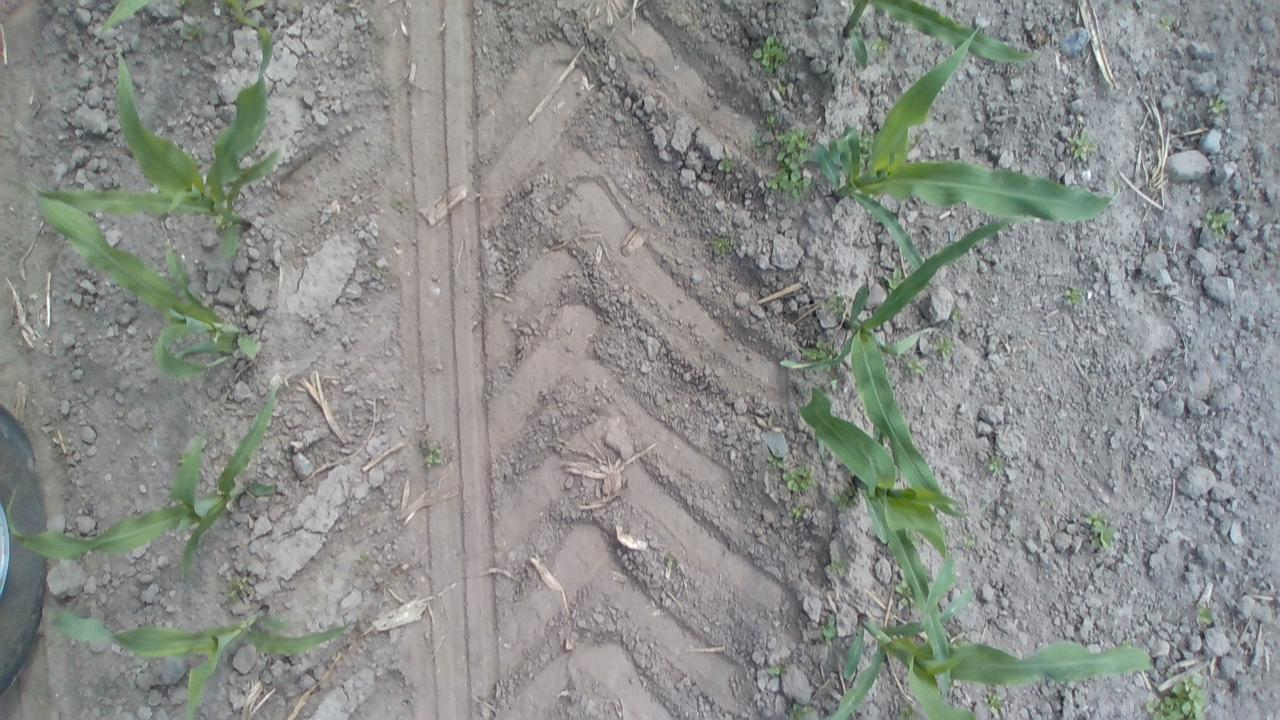Maize: (809, 26, 1116, 296), (783, 209, 1039, 522), (10, 27, 288, 258), (6, 382, 290, 591), (18, 182, 268, 388), (810, 591, 1165, 720), (26, 595, 366, 720), (848, 388, 956, 698), (833, 1, 1047, 67), (86, 1, 280, 34)
Weeds: (766, 125, 816, 208), (1140, 669, 1210, 720), (780, 338, 846, 389), (748, 32, 796, 77), (1081, 508, 1120, 555), (219, 569, 258, 607), (1201, 204, 1237, 245), (419, 437, 458, 474), (778, 463, 821, 496), (1064, 125, 1100, 161), (892, 576, 918, 617), (1189, 602, 1224, 632), (818, 609, 844, 647), (1058, 283, 1093, 311), (932, 334, 962, 366), (826, 290, 856, 320), (987, 450, 1012, 485), (899, 352, 928, 382), (178, 18, 209, 45), (824, 554, 852, 582), (709, 232, 739, 258), (883, 264, 907, 296), (1152, 12, 1182, 36), (716, 156, 741, 184), (870, 31, 898, 56), (826, 489, 856, 512), (784, 699, 816, 720), (1206, 89, 1228, 118), (786, 502, 815, 524), (948, 310, 976, 332), (958, 528, 981, 554), (660, 550, 684, 574), (353, 550, 381, 570), (982, 694, 1007, 716), (368, 255, 390, 278), (750, 130, 771, 154), (762, 448, 783, 471), (766, 660, 790, 680), (386, 194, 408, 213), (764, 109, 784, 128)
